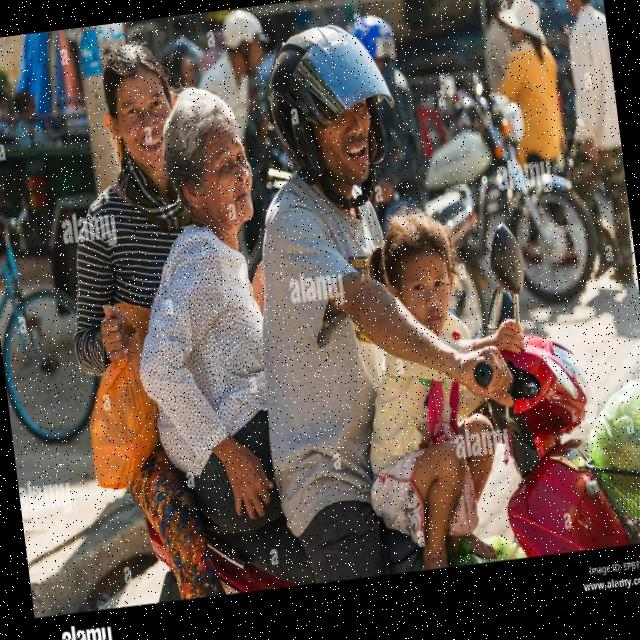Triple riding: (48, 3, 421, 504)
